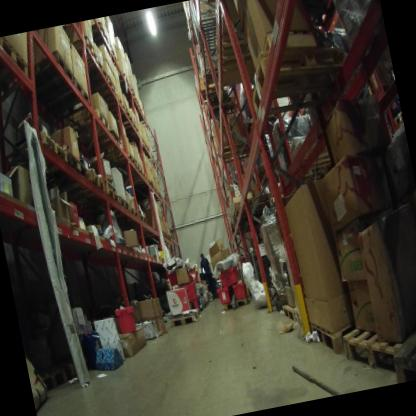pallet: (239, 40, 354, 123), (334, 307, 405, 383), (0, 128, 73, 192), (283, 136, 350, 188), (305, 301, 363, 359), (28, 73, 95, 123), (0, 32, 42, 101), (211, 25, 262, 79), (58, 107, 114, 153), (382, 308, 416, 382), (37, 39, 79, 93), (227, 185, 278, 225), (48, 148, 91, 191), (61, 162, 108, 198), (274, 294, 319, 331), (201, 93, 248, 127), (223, 211, 270, 239), (163, 304, 207, 332), (209, 139, 255, 165), (63, 35, 97, 69), (85, 67, 116, 97), (96, 82, 125, 114), (105, 147, 138, 172), (134, 223, 167, 245), (115, 113, 141, 140), (83, 18, 110, 42), (218, 296, 250, 316), (102, 187, 123, 216), (193, 85, 223, 105), (119, 165, 149, 184), (127, 182, 161, 198), (97, 38, 118, 63), (89, 60, 109, 85), (111, 105, 133, 127), (125, 130, 148, 150), (114, 71, 134, 94), (114, 189, 130, 215), (128, 192, 162, 204), (101, 173, 118, 194), (125, 199, 139, 220), (135, 202, 147, 218), (136, 213, 148, 227)
small_load_carrier: (113, 302, 141, 339), (176, 268, 200, 301), (215, 264, 239, 289), (230, 276, 251, 301), (211, 283, 233, 305)
stillage: (185, 0, 240, 60), (248, 245, 283, 301)
